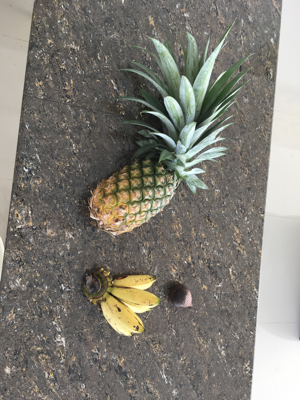banana: (84, 265, 159, 338)
pineapple: (90, 31, 243, 240)
snake fruit: (172, 282, 193, 309)
